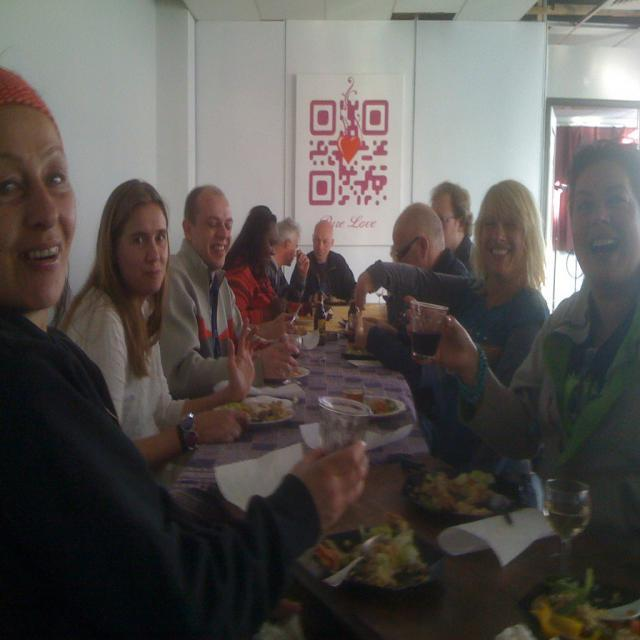qrcode: (310, 101, 389, 206)
